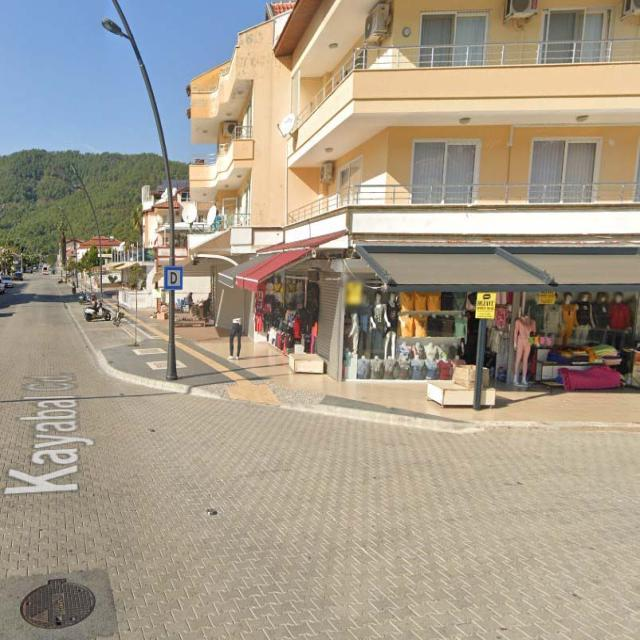durak: (165, 267, 183, 290)
